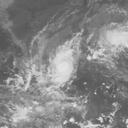cyclone: (48, 48, 76, 84)
